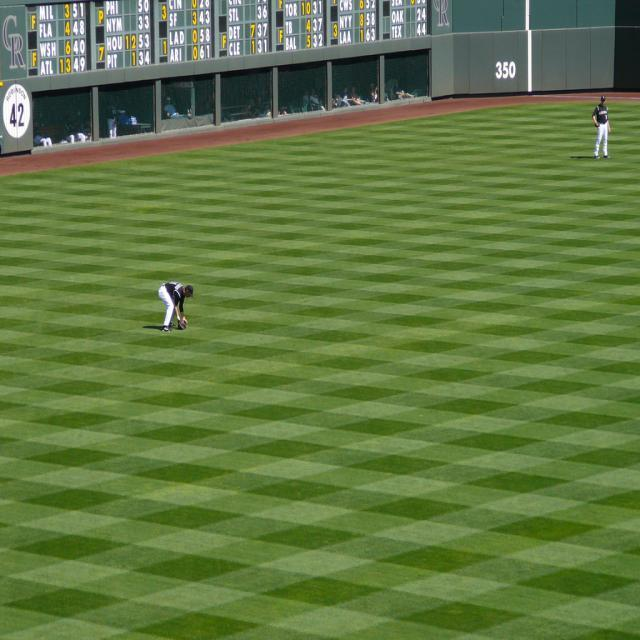football: (173, 316, 194, 336)
